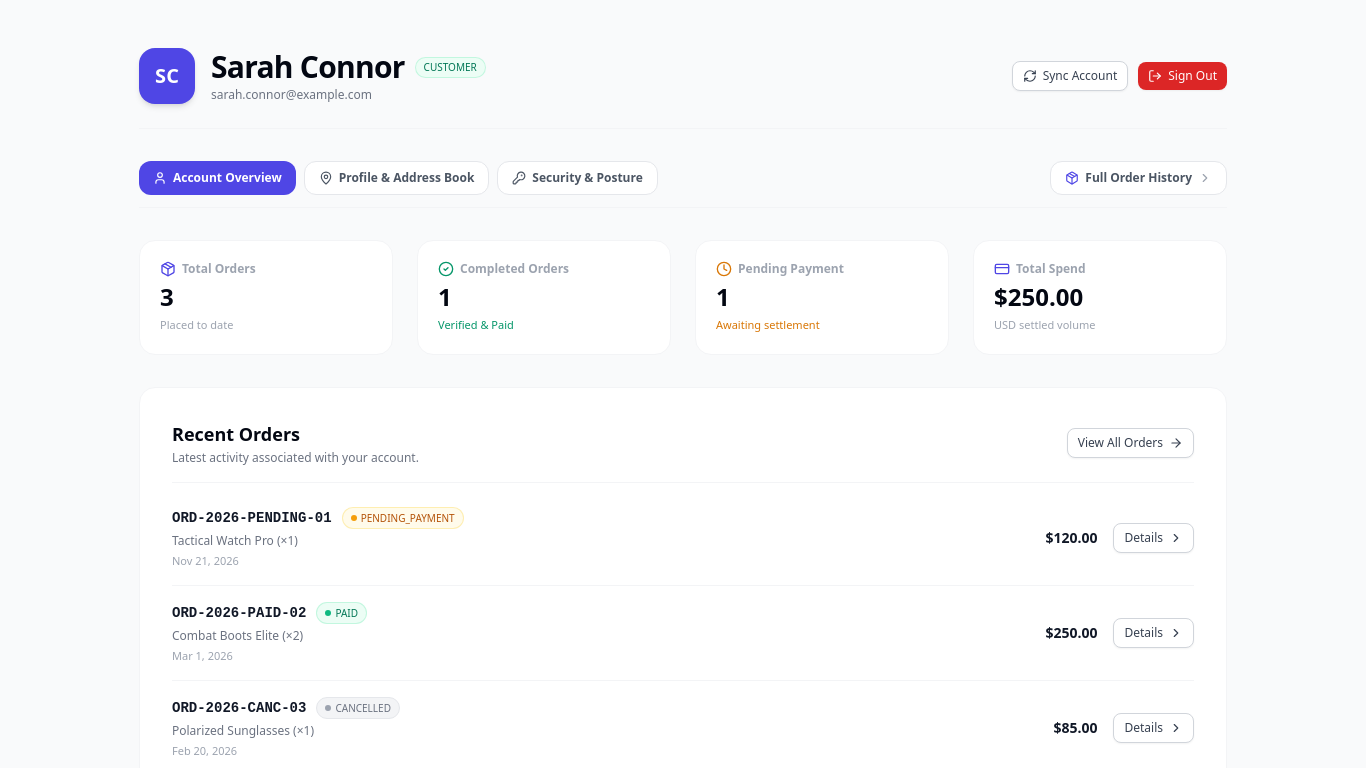
Test case: Phase 7: User Dashboard and Order Management › Session Security & Role-Based Access Control › shows token security posture and verifies RBAC permissions
// Switch to Security tab
Click the button "Security & Posture".
click(578, 178)  # box [497, 161, 658, 195]
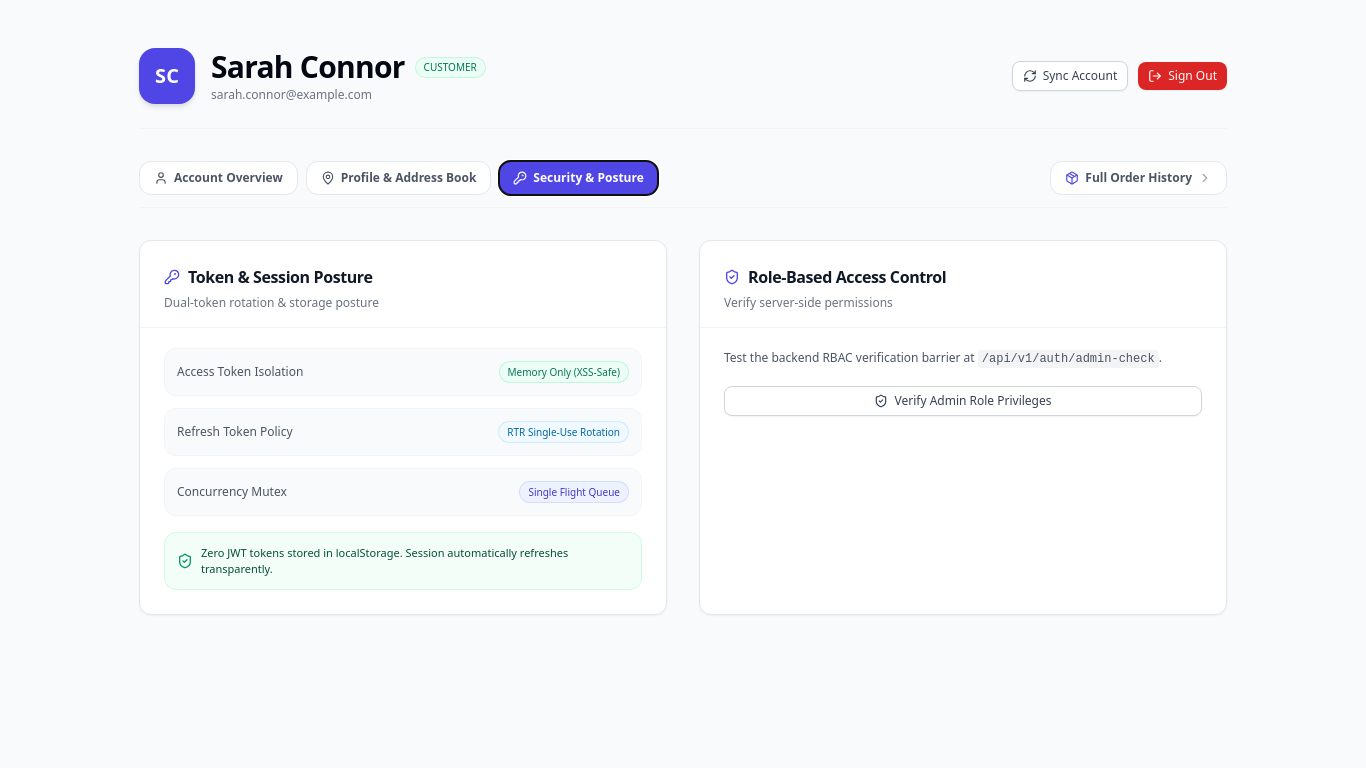
Check: the heading "Token & Session Posture" is shown, box [188, 265, 372, 289]
Check: the text "Memory Only (XSS-Safe)" is shown, box [498, 361, 629, 383]
Check: the text "RTR Single-Use Rotation" is shown, box [498, 421, 629, 443]
// Test RBAC check
Click the button "Verify Admin Role Privileges".
click(963, 400)  # box [724, 386, 1202, 416]
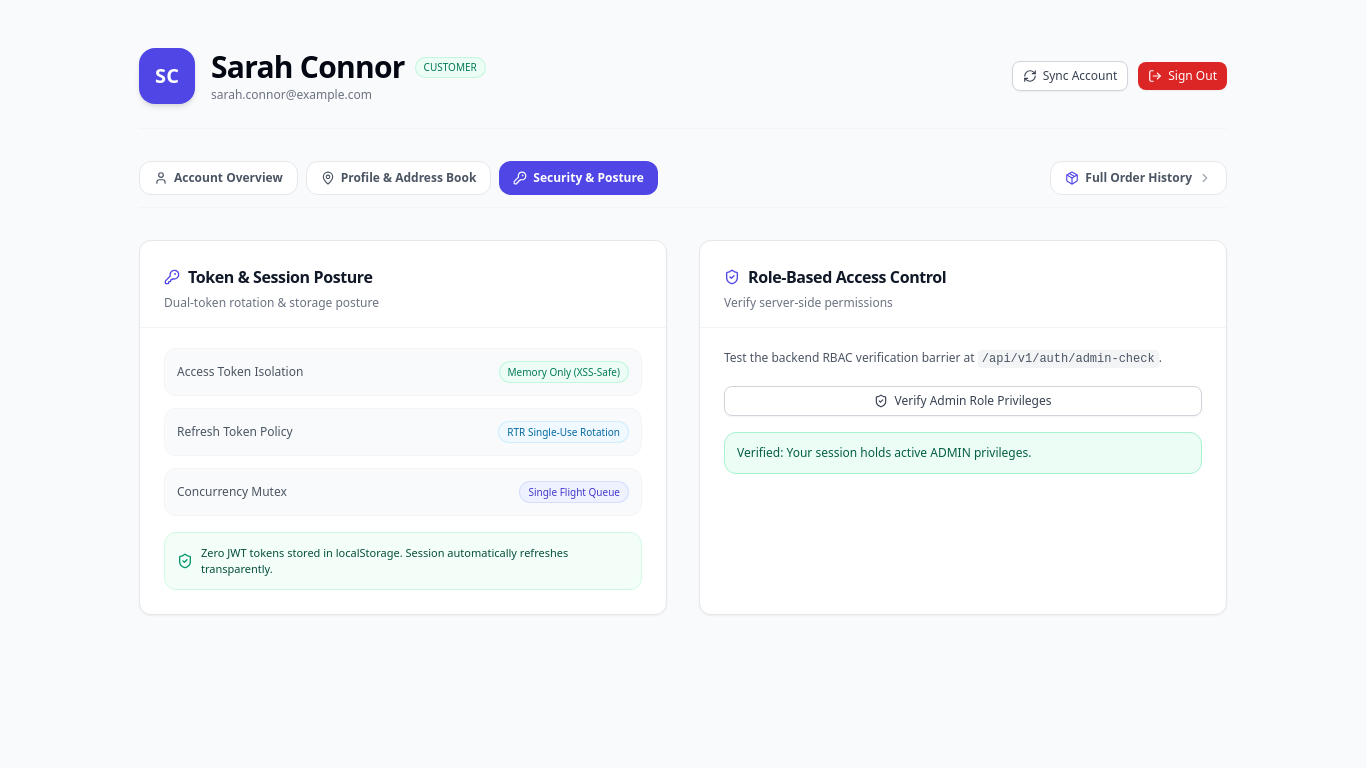
Check: the text "Verified: Your session holds active ADMIN privileges." is shown, box [724, 432, 1202, 474]
